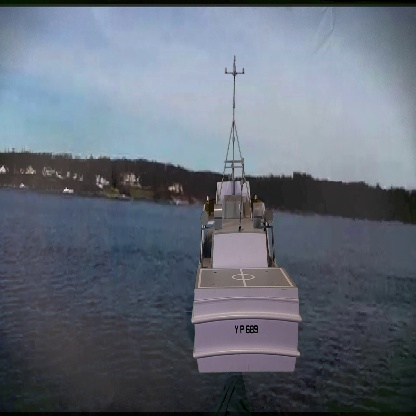YP689: (189, 56, 303, 374)
